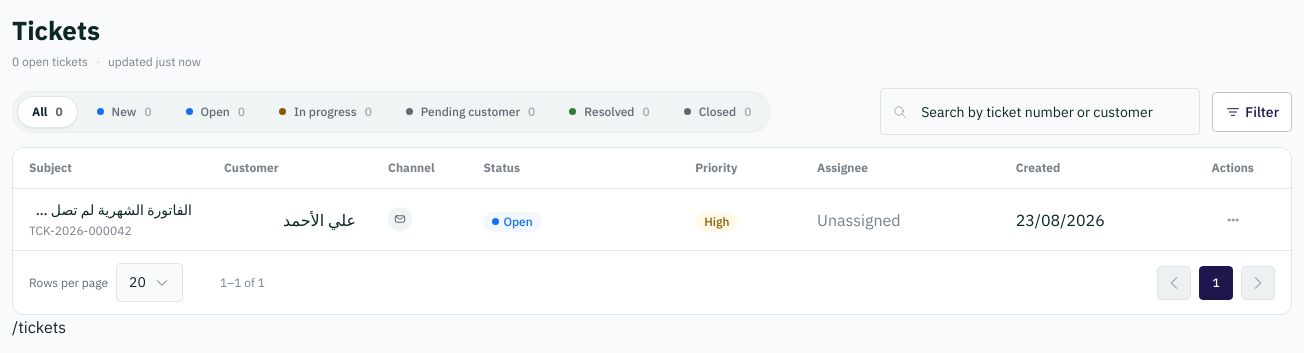
AC-1 / AC-3 — four items and a rule, and none of them is red › renders view, reassign, a disabled escalate, a rule and close
Click the button named "Ticket actions" at {"x": 1233, "y": 220}, box [1218,205,1248,235]
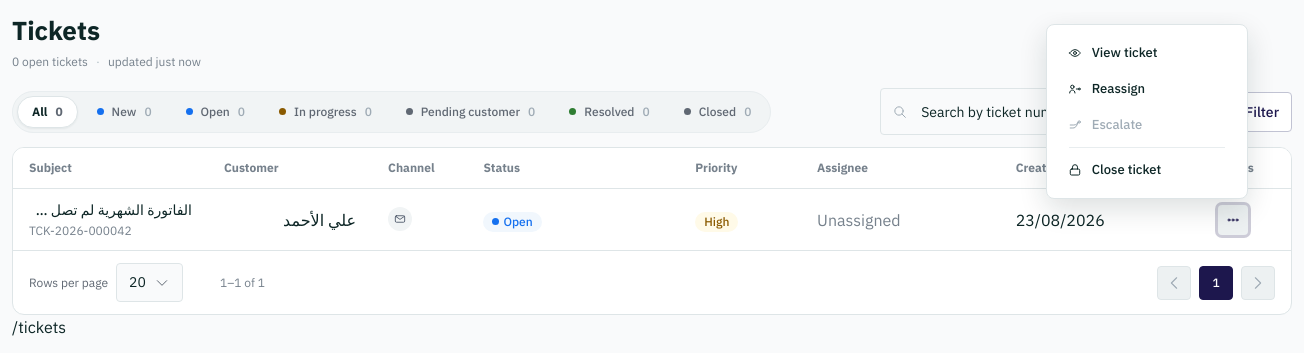
Now the number of menu items is 4, box [1057,35,1237,71]; [1057,71,1237,107]; [1057,107,1237,143]; [1057,152,1237,188]
Now the menu item "Escalate" is disabled, box [1057,107,1237,143]
